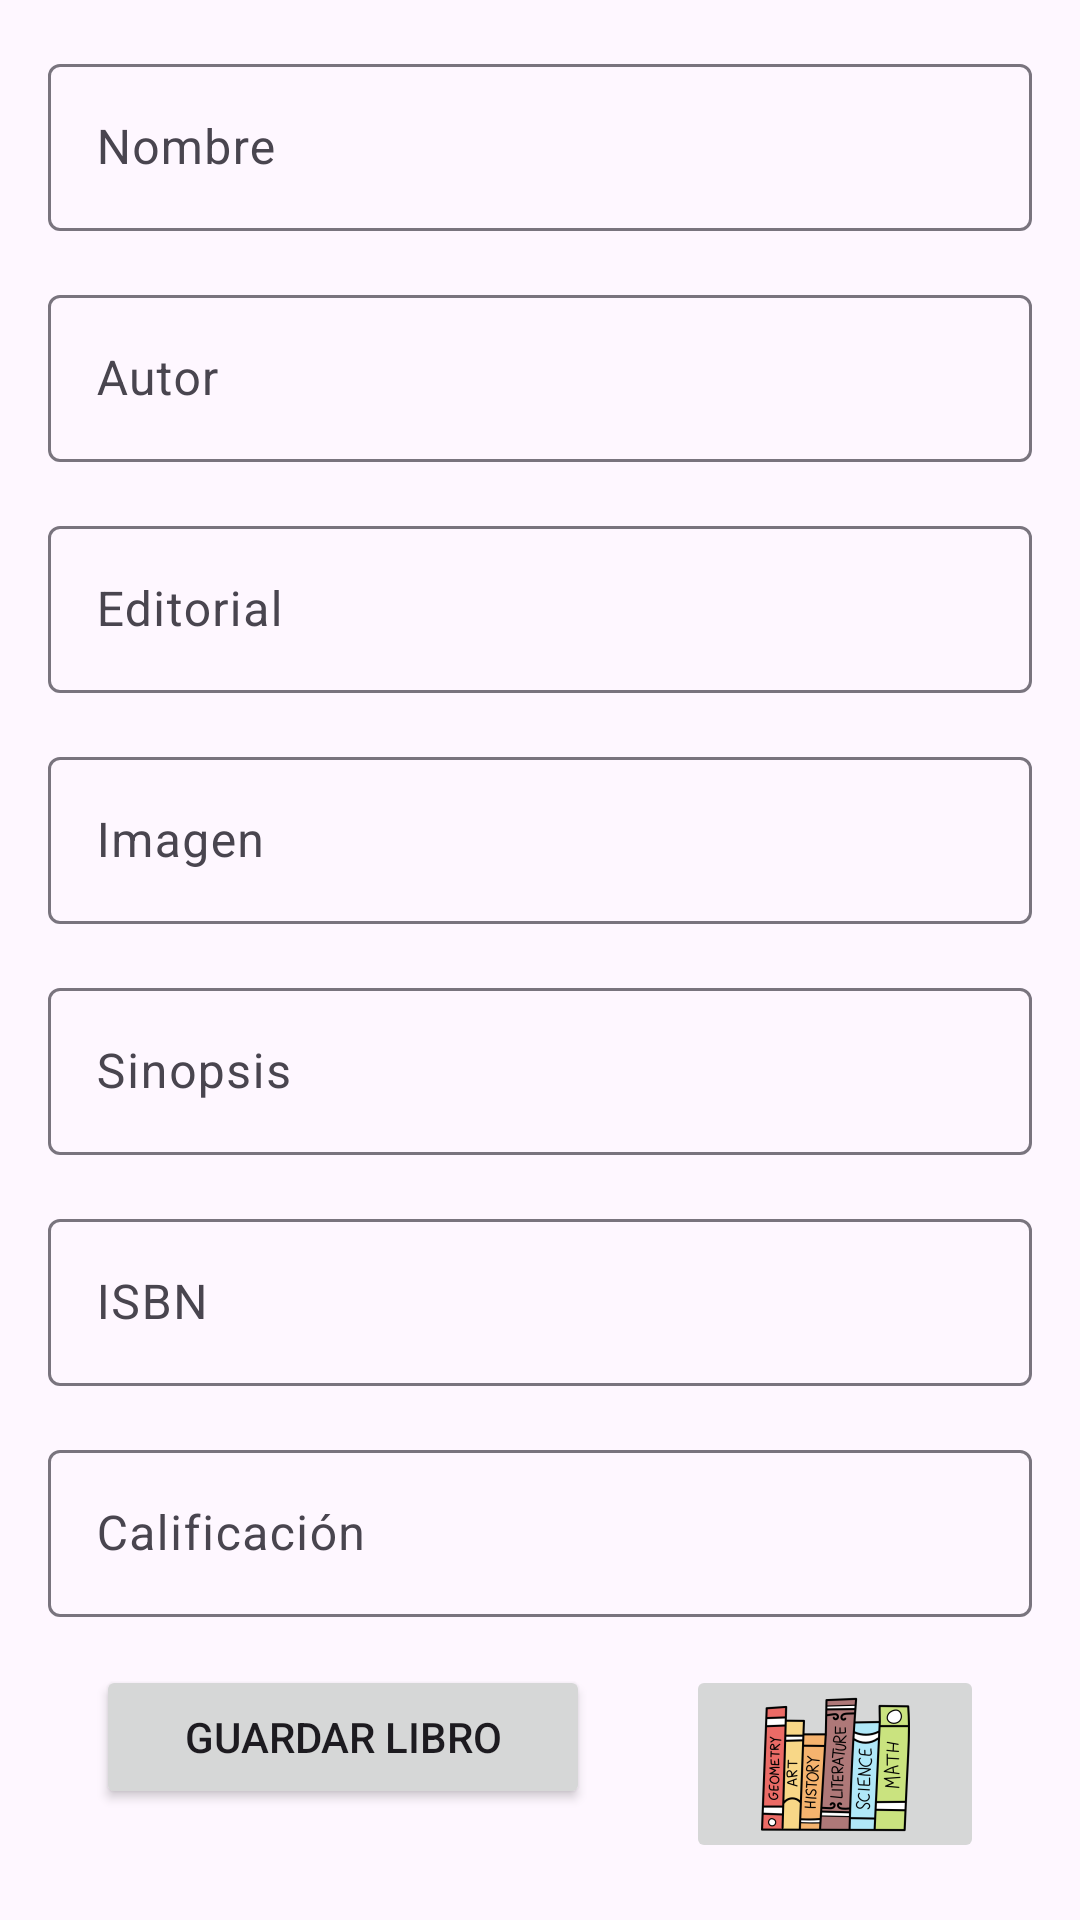

Screen size 1080×1920. Icon name, then its center in pixels as [x,y]:
ver generos: [835,1764]
